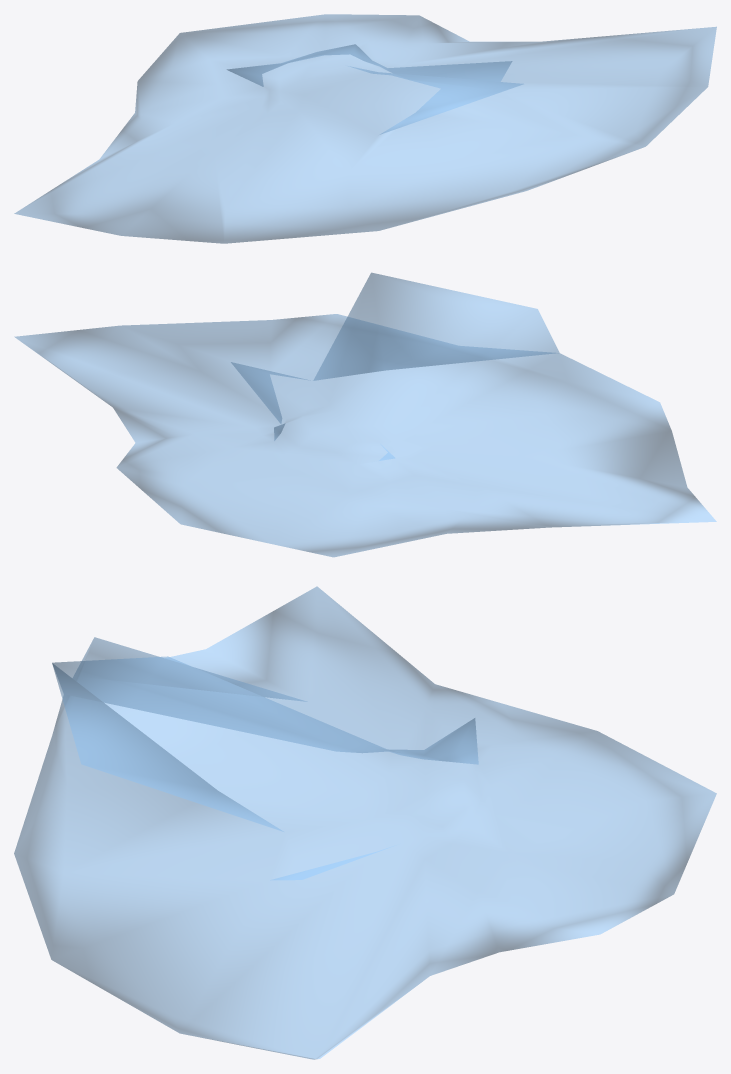
Rendered from tspy_shield.gltf.
3 views of the same model, one above another, from view 1: azimuth 30°, elevation 25°; view 2: azimuth 150°, elevation 25°; view 3: azimuth 270°, elevation 25° (orthographic). The views are drawn at different scales.
Parts seen in each view (by area): view 1: tspy.shield; view 2: tspy.shield; view 3: tspy.shield.
Boxes of the visible parts, x1,y1,x2,y2 form: tspy.shield: (14, 14, 716, 243); tspy.shield: (14, 272, 716, 557); tspy.shield: (14, 586, 716, 1059).
Size of the model in its own units: 8.56 by 1.57 by 5.15.
